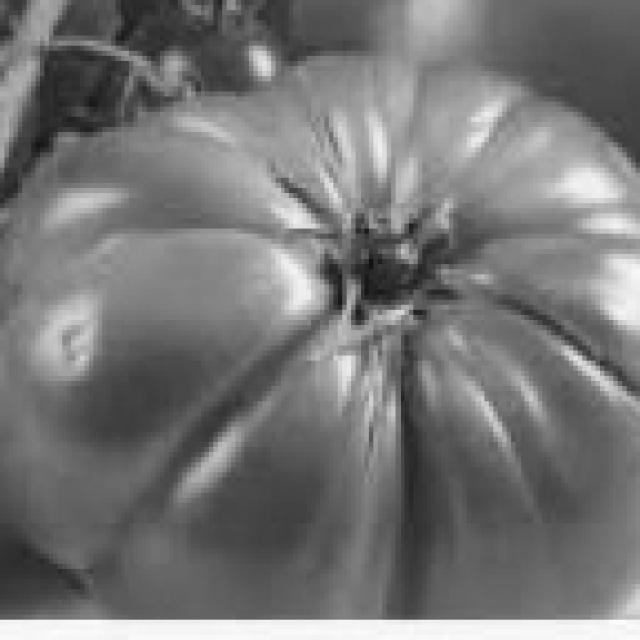Healthy: (0, 61, 640, 609), (156, 0, 524, 96)
